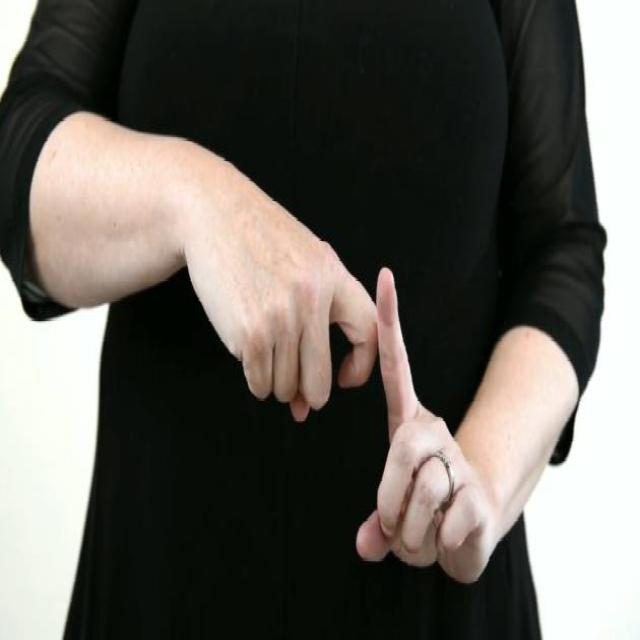K: (235, 163, 494, 593)
